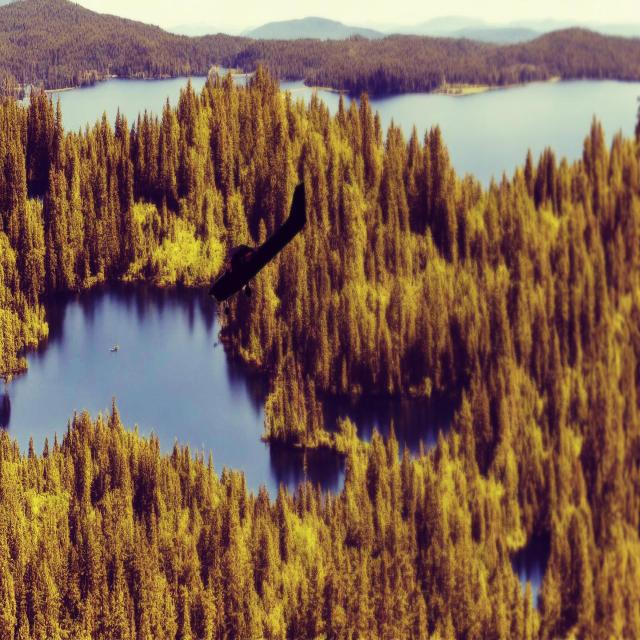airplane: (208, 180, 307, 314)
